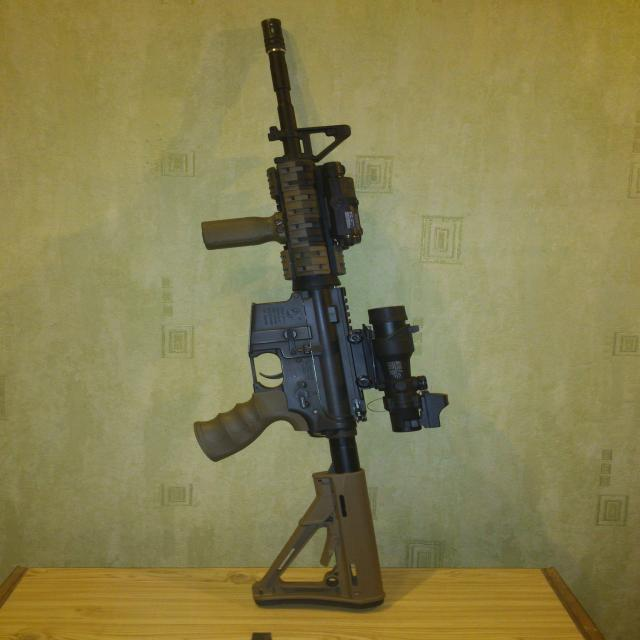firearm: (188, 12, 452, 614)
